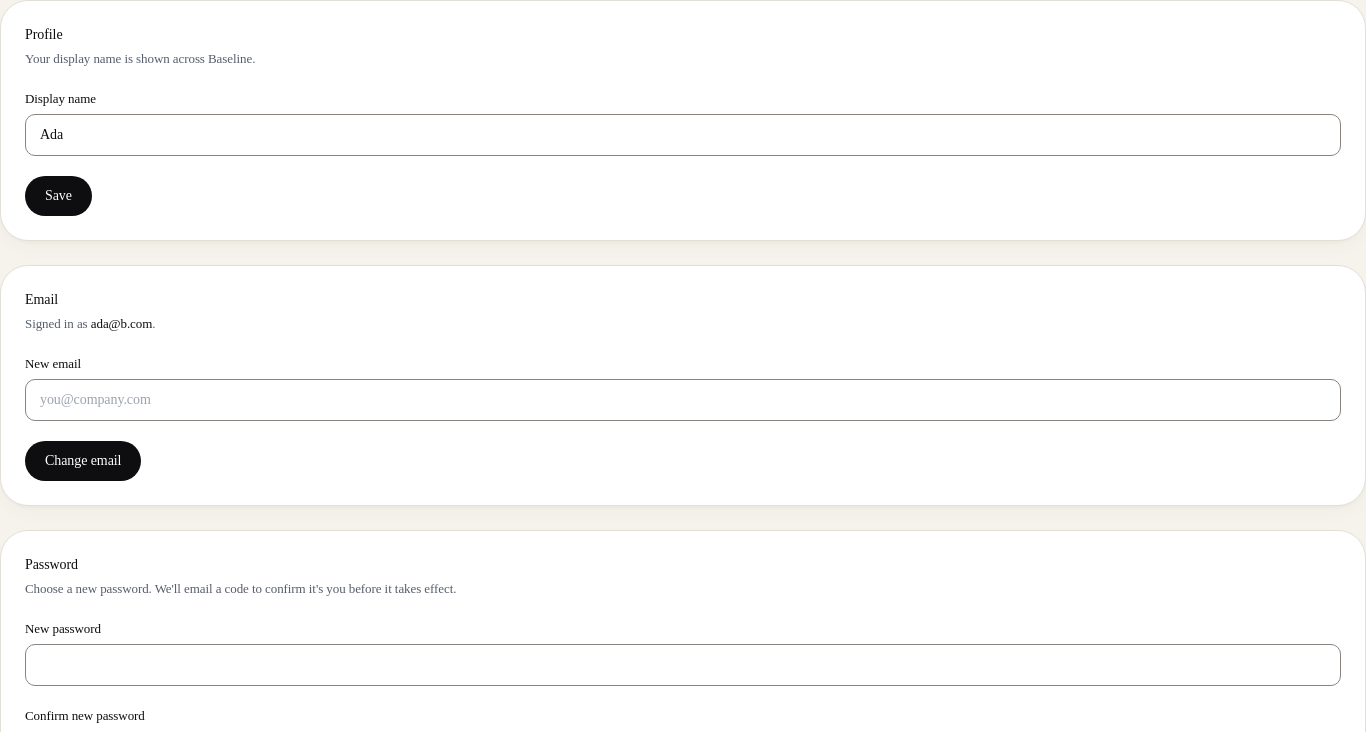
Test: AccountForms › renders the provider error returned by the change-email action
This screenshot has width=1366, height=732.
In the field labelled "New email": (683, 400) [25,379,1341,421], type "new@b.com"
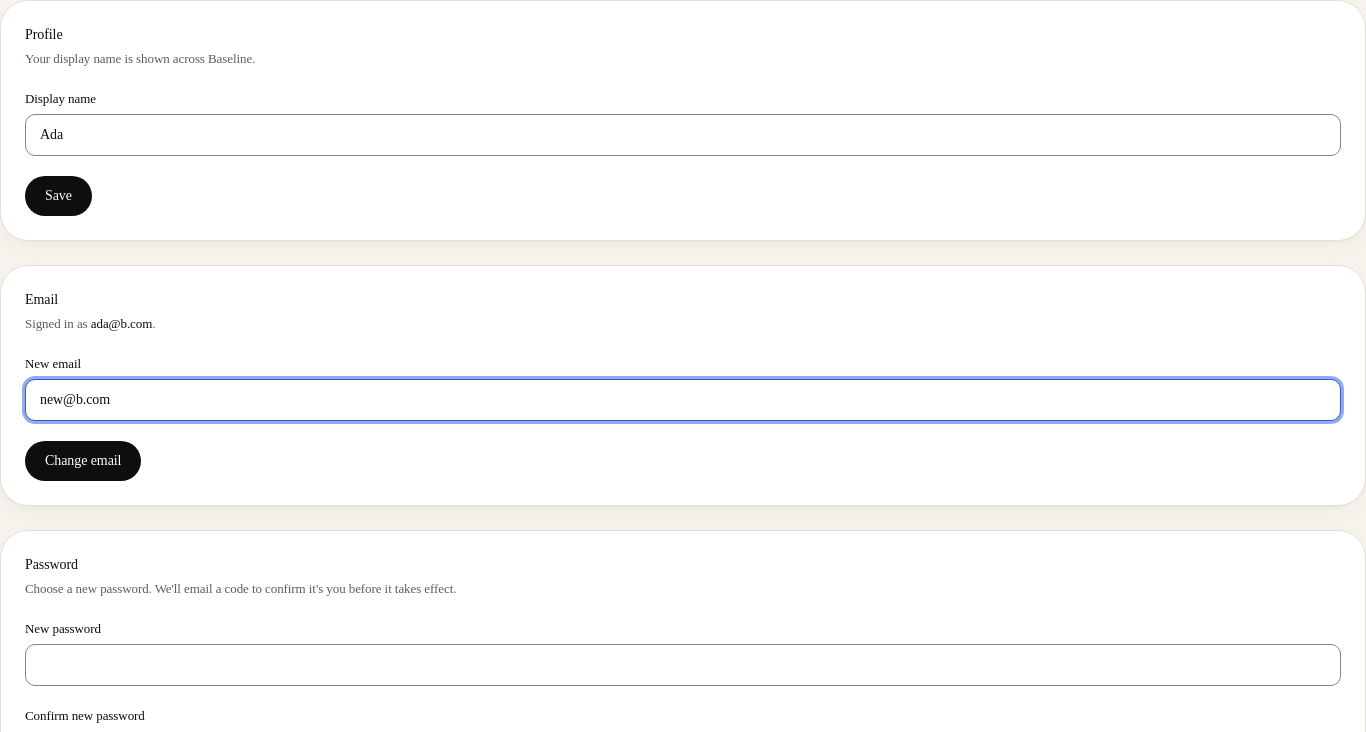
Click the button "Change email": (83, 461) [25,441,141,481]
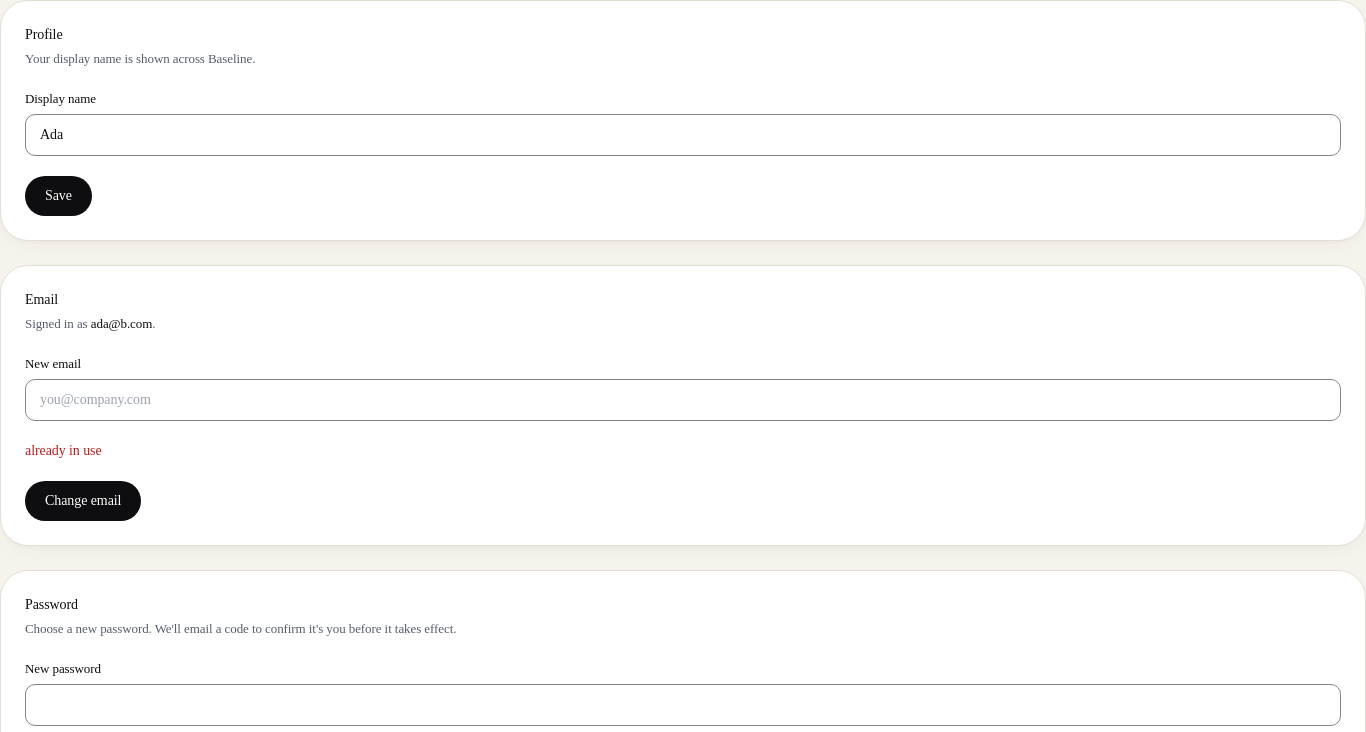
Expected: the message reads "already in use", [25,443,102,458]
